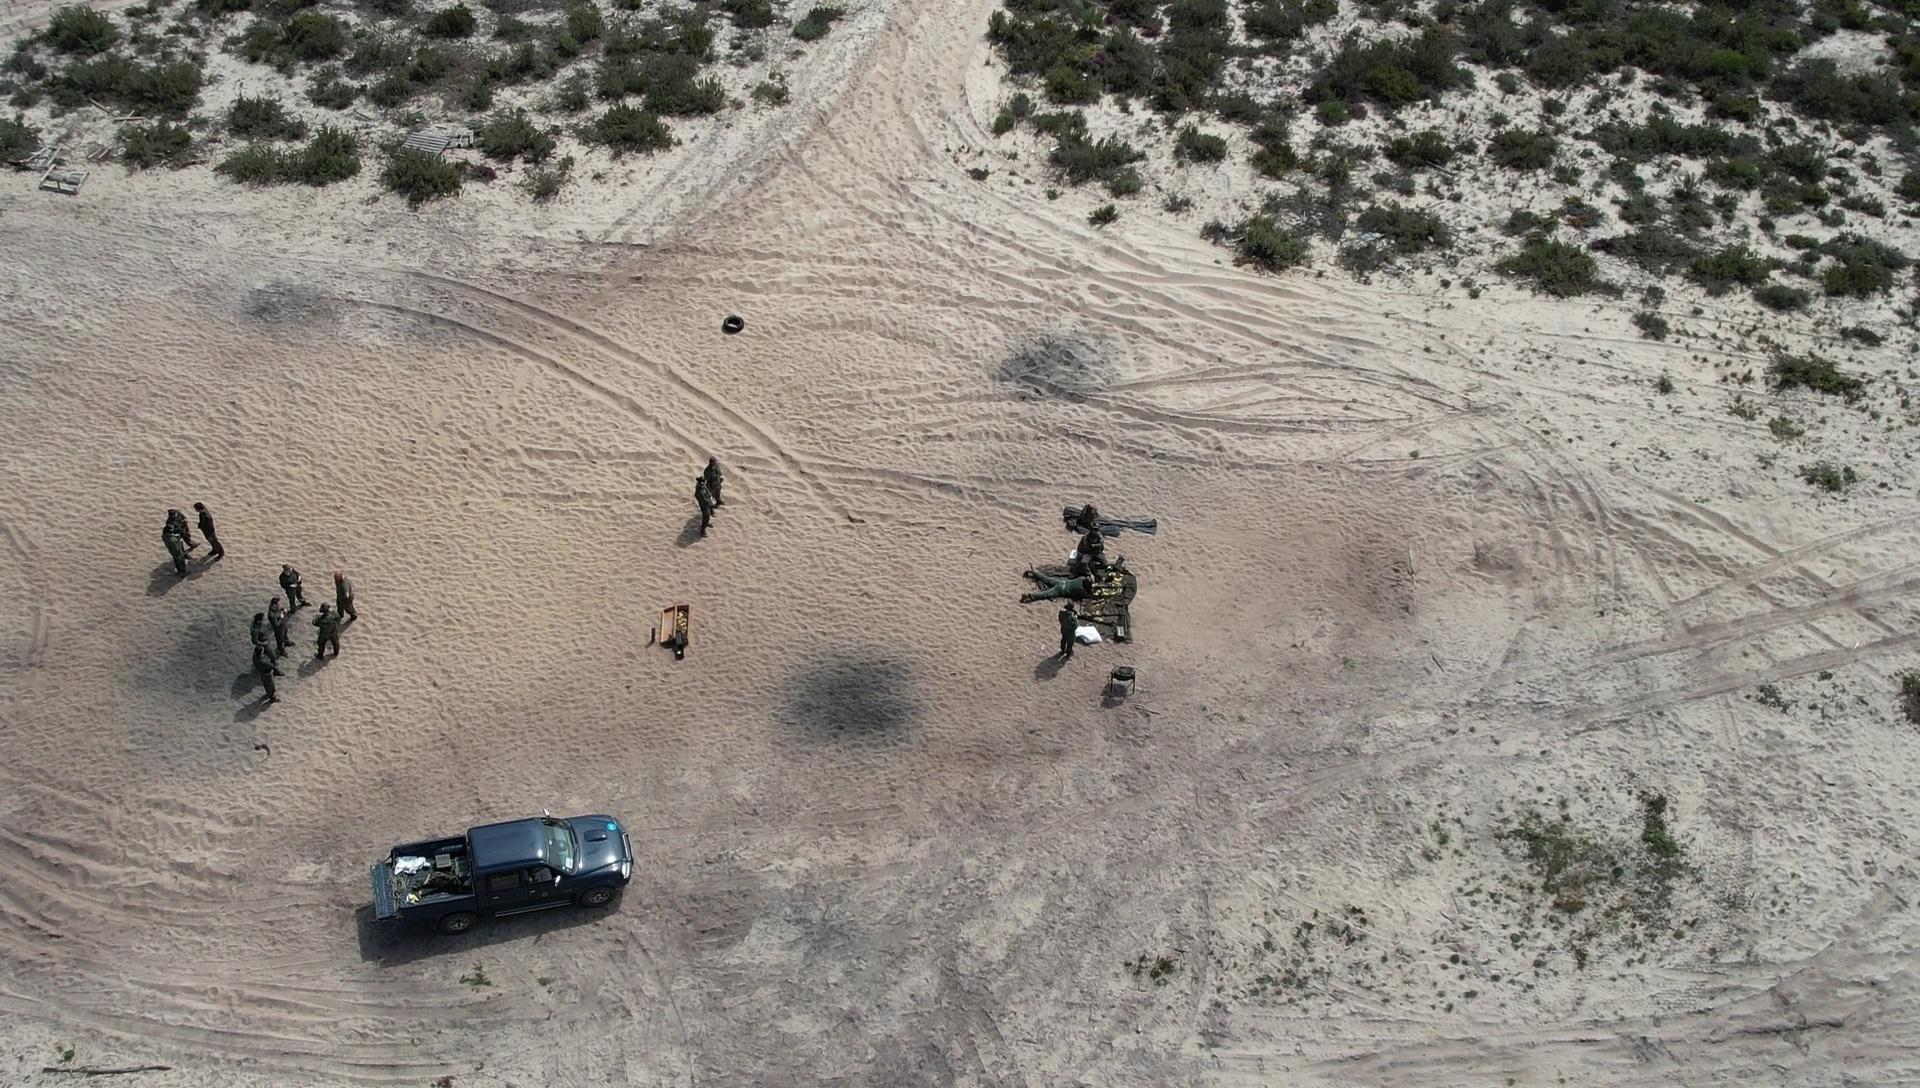Soldier: (1030, 560, 1125, 612), (684, 469, 731, 537), (1068, 534, 1114, 601), (314, 578, 363, 640), (245, 640, 285, 713), (306, 601, 347, 671), (193, 502, 231, 576), (272, 562, 313, 617), (1058, 593, 1091, 661), (160, 530, 195, 587), (251, 636, 282, 698), (695, 469, 723, 521), (247, 655, 277, 692)
